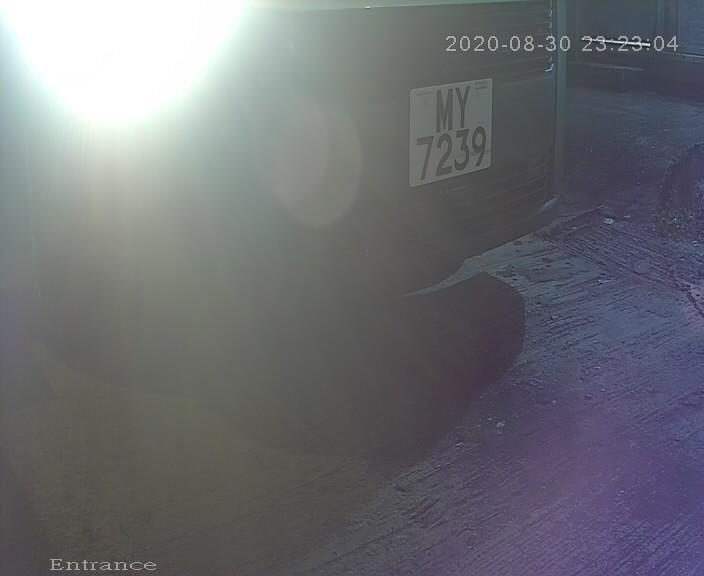License Plate: (397, 65, 500, 204)
